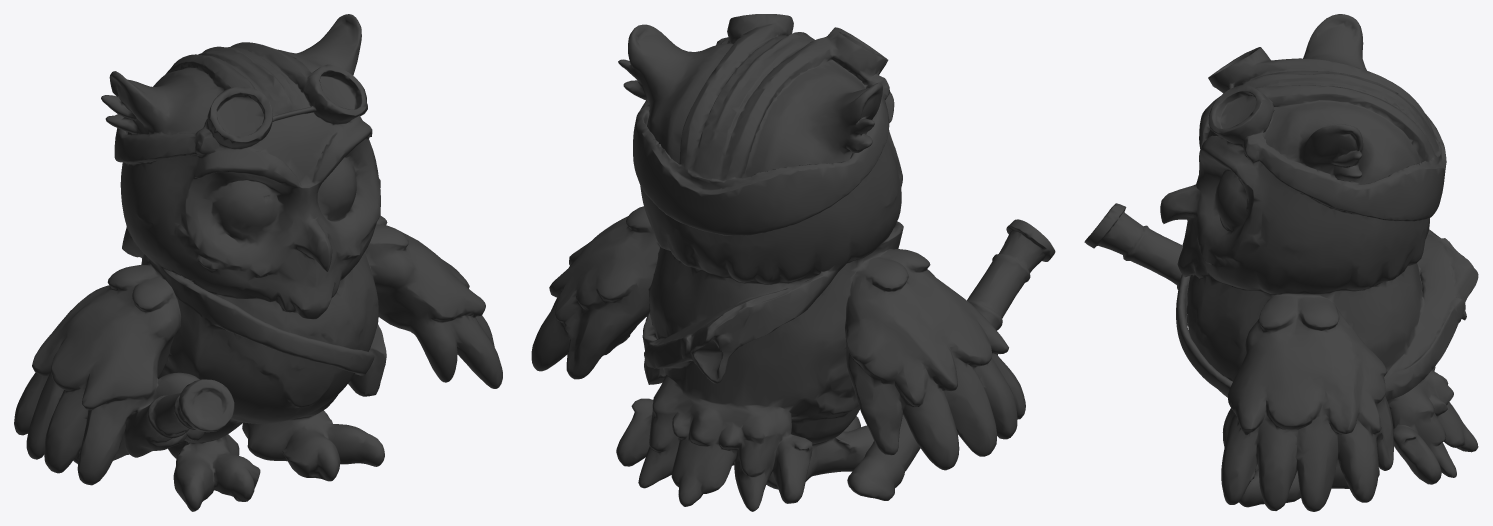
File: ojo.glb
3 views of the same model, side by side, from view 1: azimuth 30°, elevation 25°; view 2: azimuth 150°, elevation 25°; view 3: azimuth 270°, elevation 25° (orthographic). The views are drawn at different scales.
Visible parts, largest first — view 1: geometry_0; view 2: geometry_0; view 3: geometry_0.
Part boxes in pixels (box(x1,y1,x2,y2)): geometry_0: box(14, 14, 502, 511); geometry_0: box(531, 14, 1055, 511); geometry_0: box(1084, 14, 1478, 511).
Size of the model in its own units: 1.11 by 0.985 by 0.8821.
Materials: 1 (1 with a texture image).
